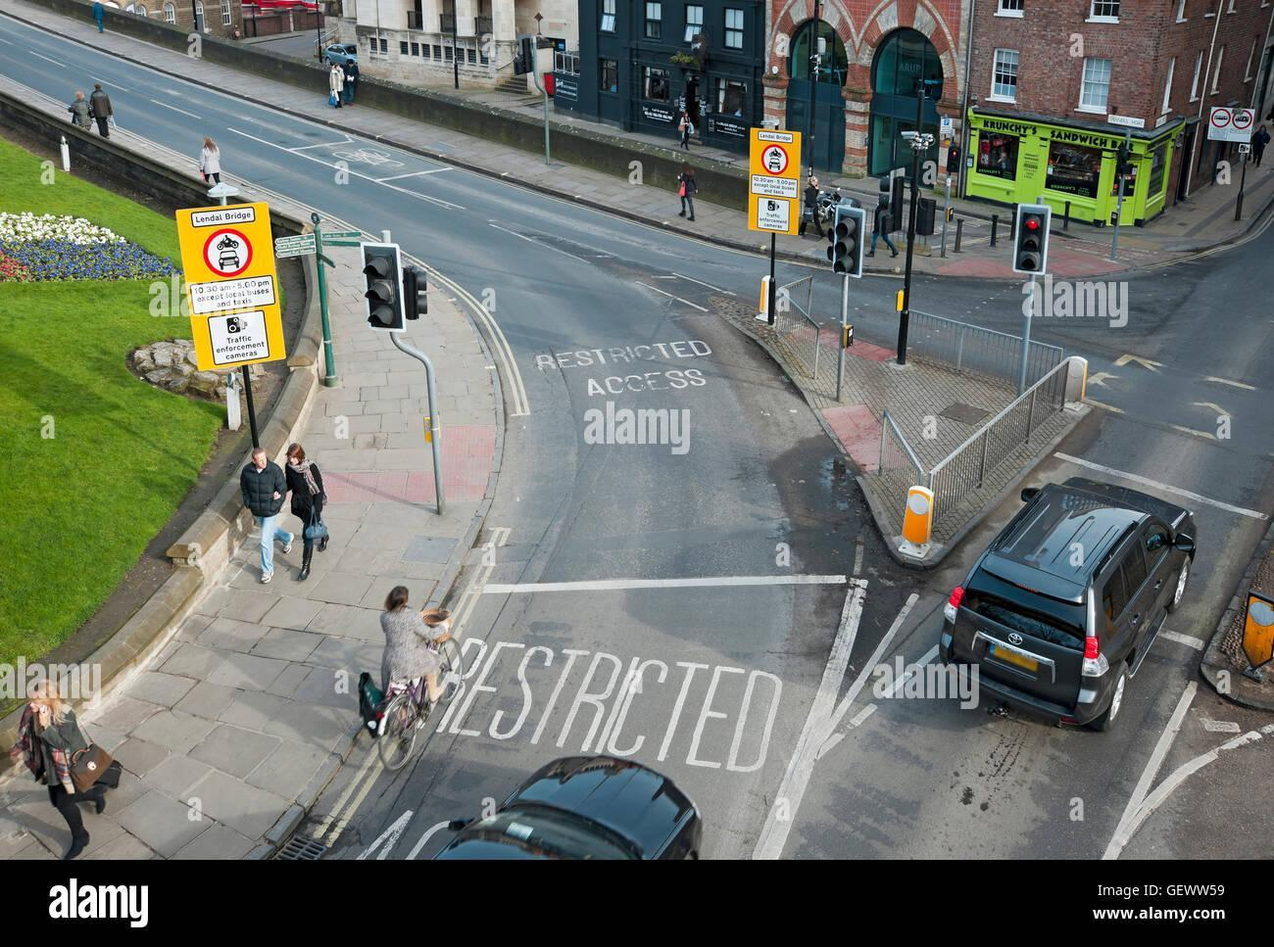Monitor: (898, 127, 939, 153)
